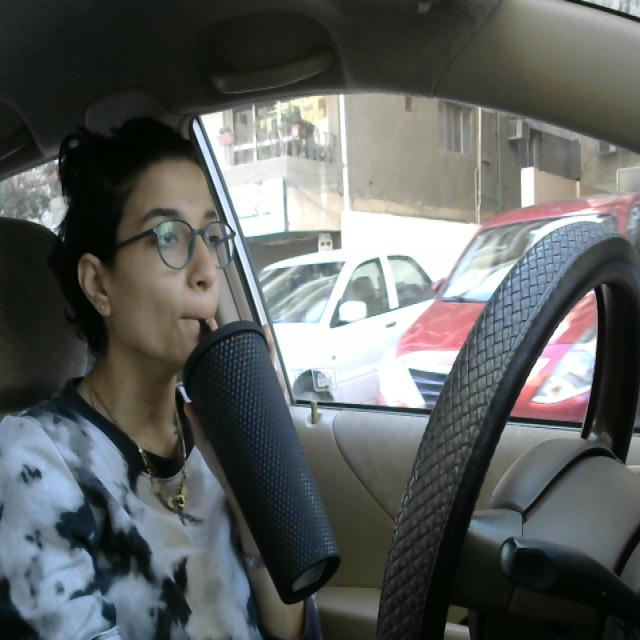drinking: (170, 314, 348, 593)
